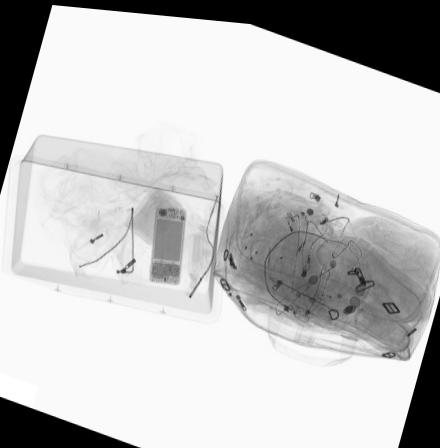Lighter: (282, 204, 307, 248)
